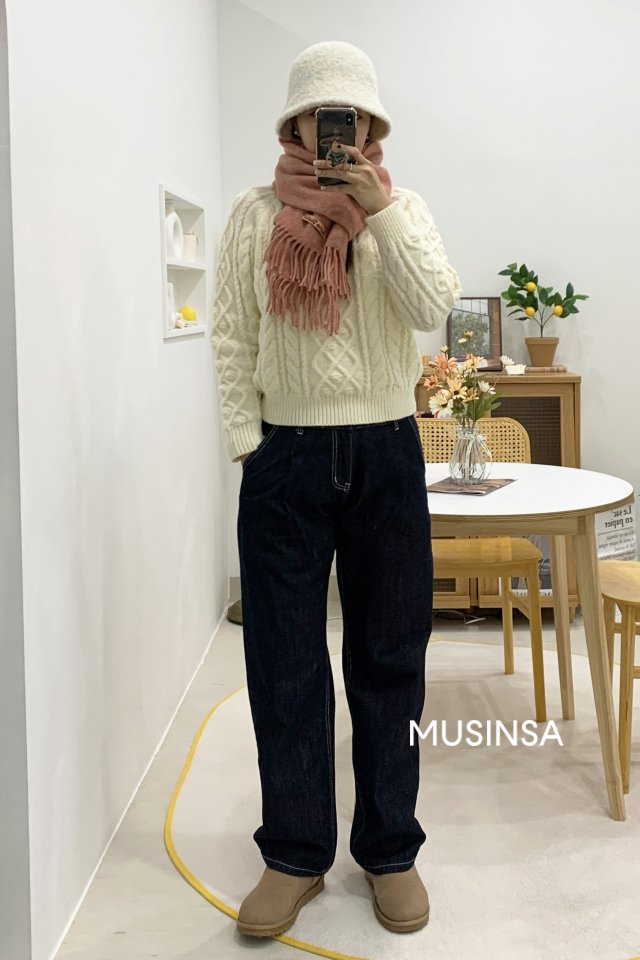Boots: (236, 852, 440, 940)
Buckethat: (272, 35, 395, 143)
Jeans: (230, 413, 444, 880)
Muffler: (272, 141, 388, 333)
Top: (201, 173, 463, 453)
